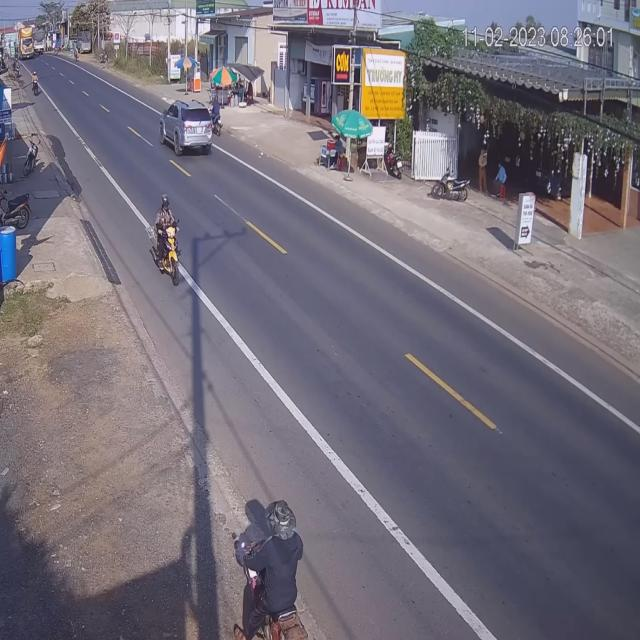car: (163, 97, 217, 158)
motorbike: (240, 499, 306, 638), (150, 197, 180, 288), (211, 95, 223, 135)
